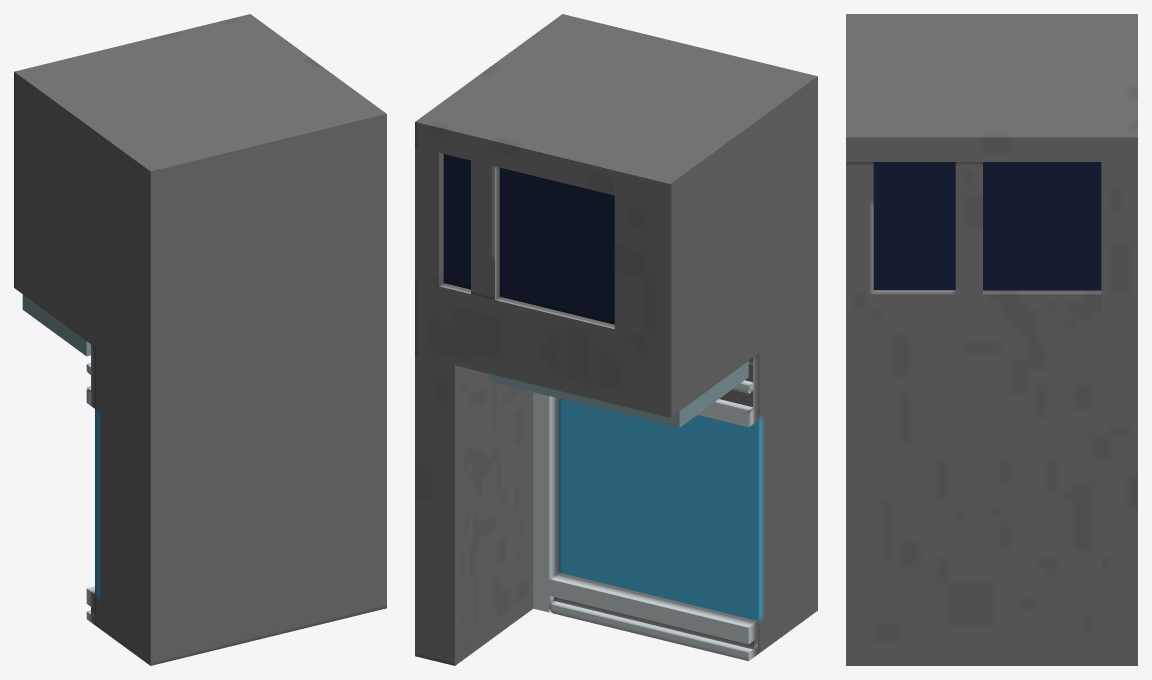
The model's file is PARTER_LEWO_OKNO_CZ1.dae.
3 views of the same model, side by side, from view 1: azimuth 30°, elevation 25°; view 2: azimuth 150°, elevation 25°; view 3: azimuth 270°, elevation 25° (orthographic). The views are drawn at different scales.
Parts seen in each view (by area): view 1: Content; view 2: Content; view 3: Content.
Boxes of the visible parts, x1,y1,x2,y2 form: Content: [14, 14, 386, 665]; Content: [415, 14, 817, 665]; Content: [846, 14, 1137, 665].
Bounding box in the file's own units: 32 × 64 × 32.
1 material, 1 textured.
